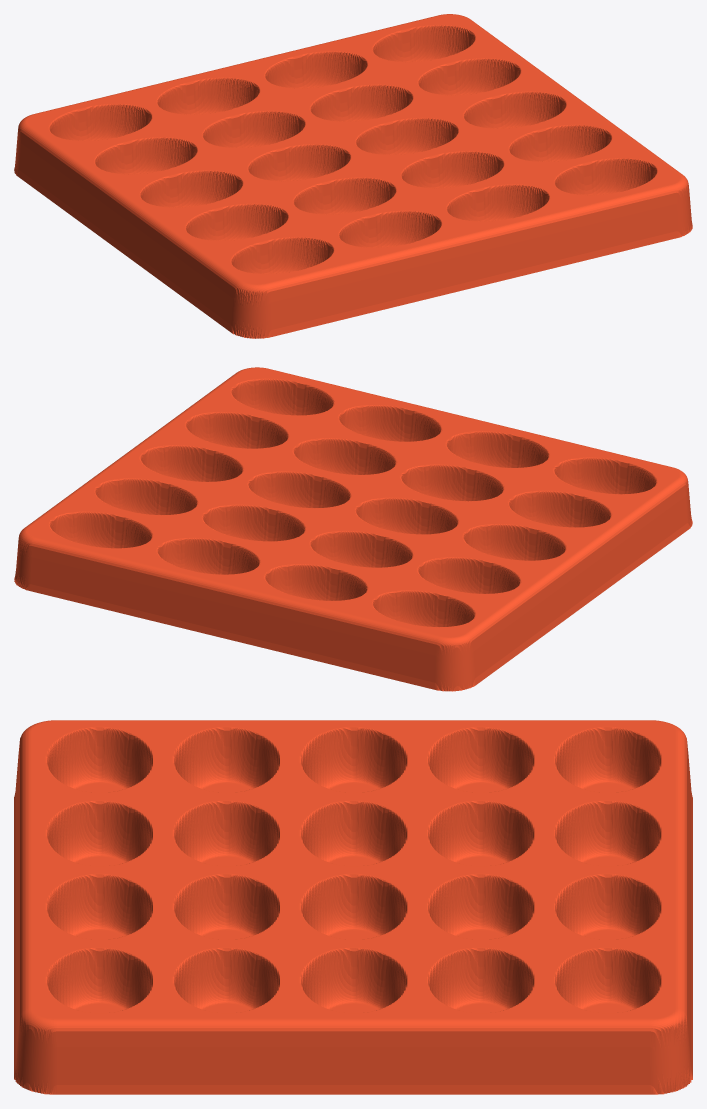
Rendered from mold.glb.
3 views of the same model, one above another, from view 1: azimuth 30°, elevation 25°; view 2: azimuth 150°, elevation 25°; view 3: azimuth 270°, elevation 25° (orthographic). The views are drawn at different scales.
Visible parts, largest first — view 1: geometry_0; view 2: geometry_0; view 3: geometry_0.
Part boxes in pixels (<box>): geometry_0: <box>14,14,692,338</box>; geometry_0: <box>14,367,692,691</box>; geometry_0: <box>14,720,692,1094</box>.
Bounding box in the file's own units: 0.1563 × 0.0159 × 0.1435.
